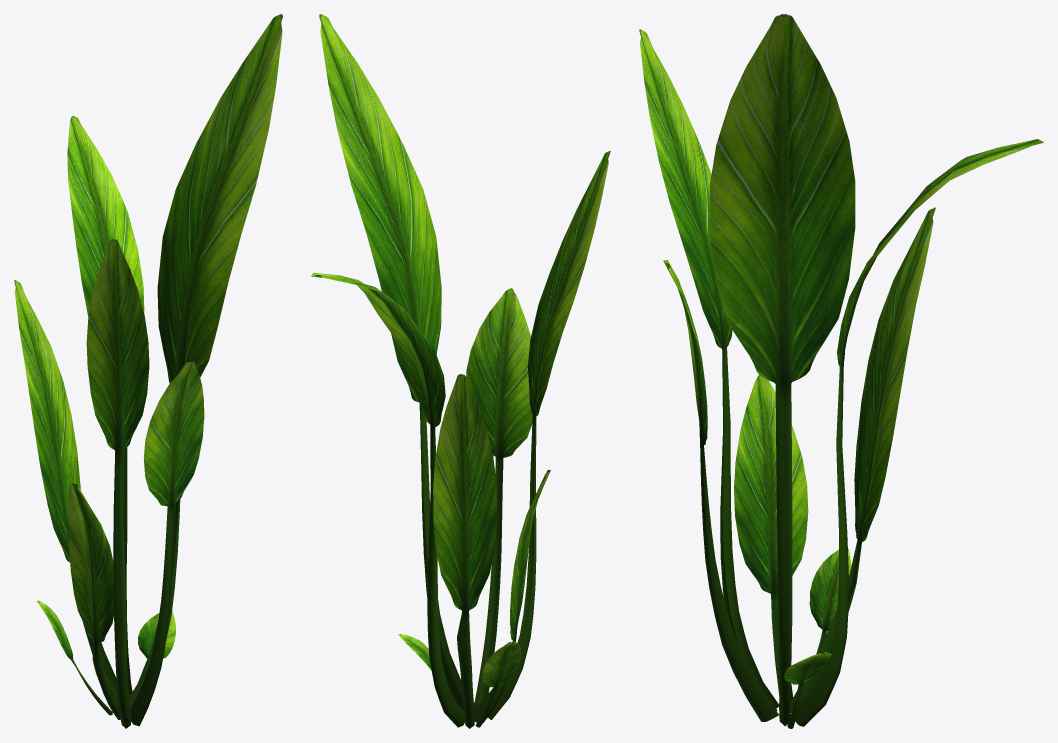
The model's file is lowpoly_marine_plant.glb.
The picture shows the model from 3 angles, left to right: view 1: azimuth 30°, elevation 25°; view 2: azimuth 150°, elevation 25°; view 3: azimuth 270°, elevation 25°; orthographic projection. The views are drawn at different scales.
Parts seen in each view (by area): view 1: Plane; view 2: Plane; view 3: Plane.
Boxes of the visible parts, box(x1,y1,x2,y2) form: Plane: box(14, 14, 282, 728); Plane: box(311, 14, 610, 728); Plane: box(639, 14, 1043, 728).
Size of the model in its own units: 1.1 by 3.04 by 1.39.
1 material, 1 textured.
